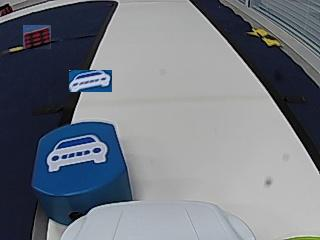safety: (46, 134, 110, 170)
